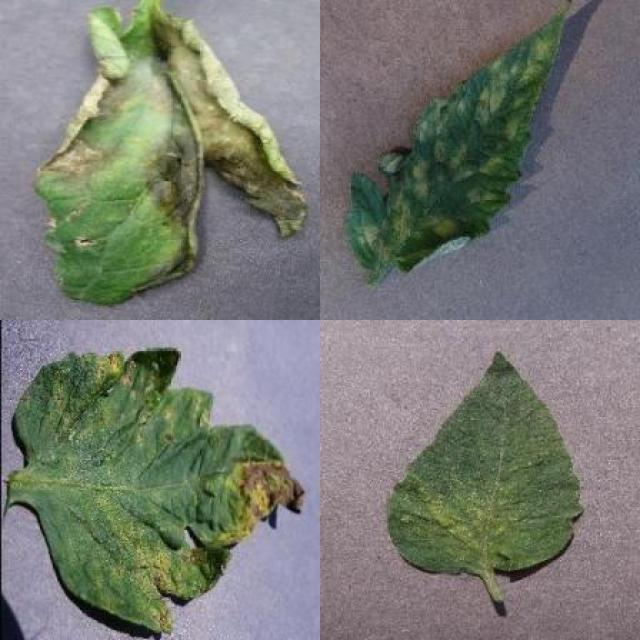Late Blight: (34, 2, 309, 312)
Leaf Mold: (344, 2, 570, 272)
Septoria: (13, 348, 304, 635)
Spider Mites: (386, 349, 584, 574)
